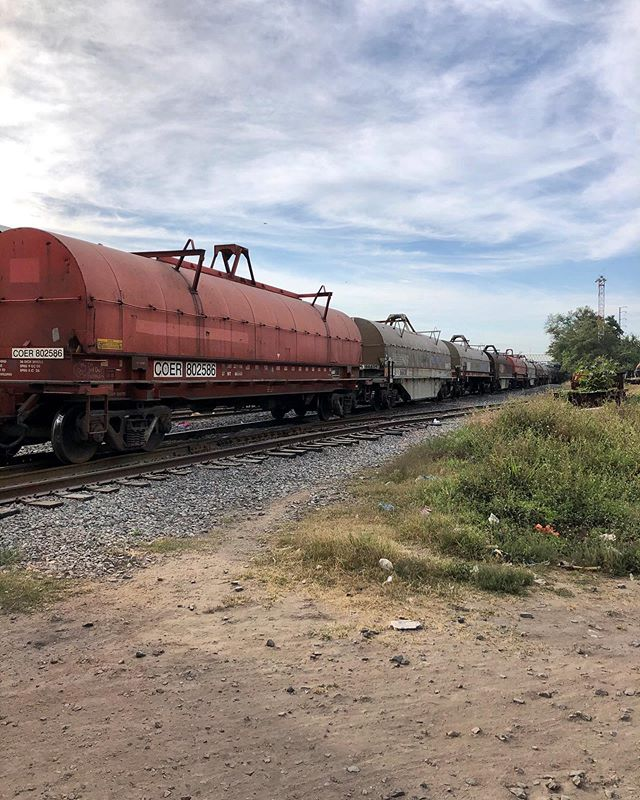grass: (341, 392, 640, 615)
sky: (1, 1, 619, 293)
train: (1, 234, 572, 424), (17, 388, 533, 544)
tree: (554, 302, 640, 382)
